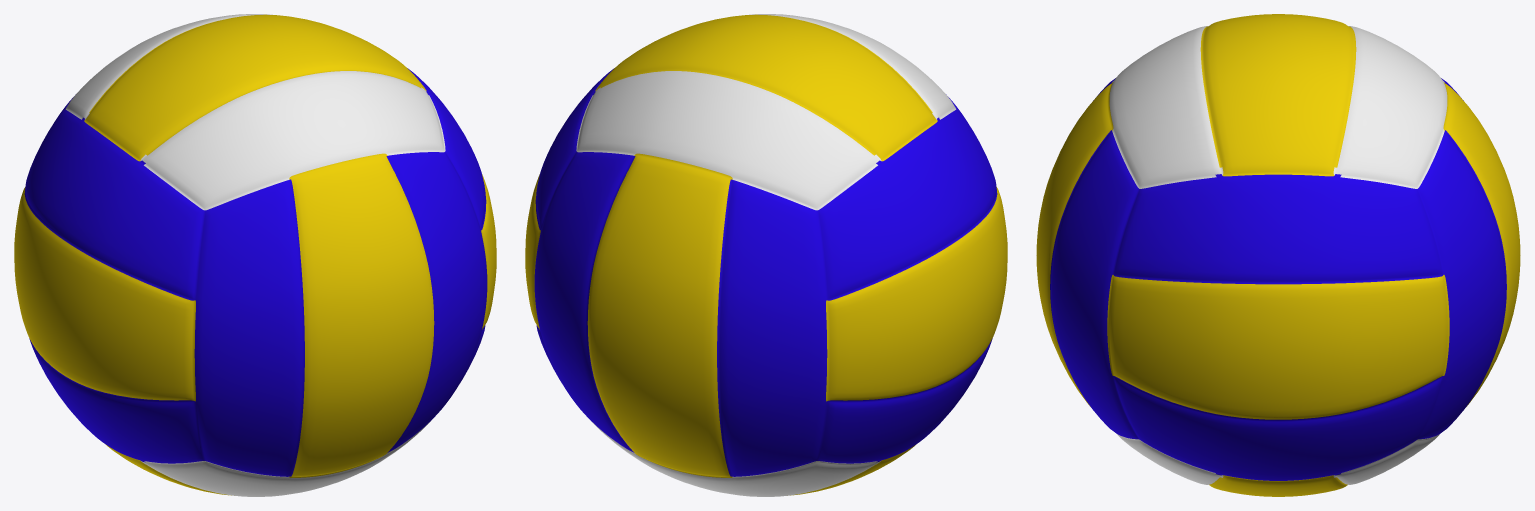
File: Voley.glb
3 renders of one model, left to right at view 1: azimuth 30°, elevation 25°; view 2: azimuth 150°, elevation 25°; view 3: azimuth 270°, elevation 25°, orthographic.
Visible parts, largest first — view 1: volleyV2; view 2: volleyV2; view 3: volleyV2.
Part boxes in pixels (x1,y1,x2,y2): volleyV2: (14,14,496,496); volleyV2: (525,14,1007,496); volleyV2: (1036,14,1520,496).
Bounding box in the file's own units: 0.5167 × 0.5167 × 0.5167.
